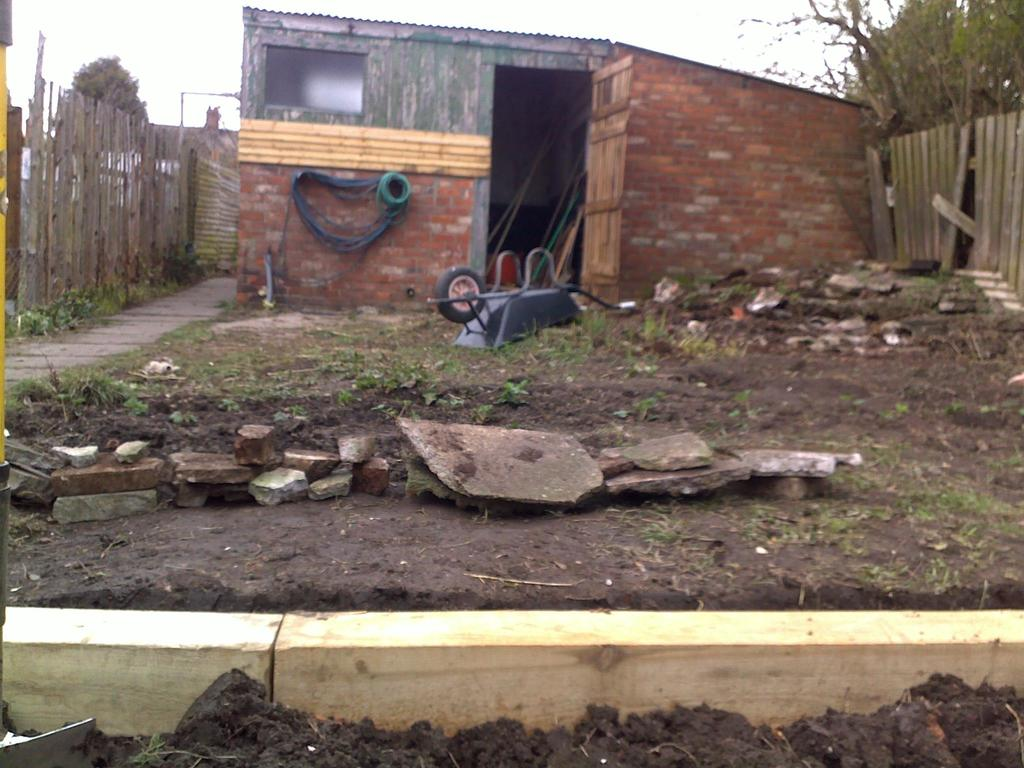Tree: (750, 0, 1023, 129), (51, 54, 161, 158)
